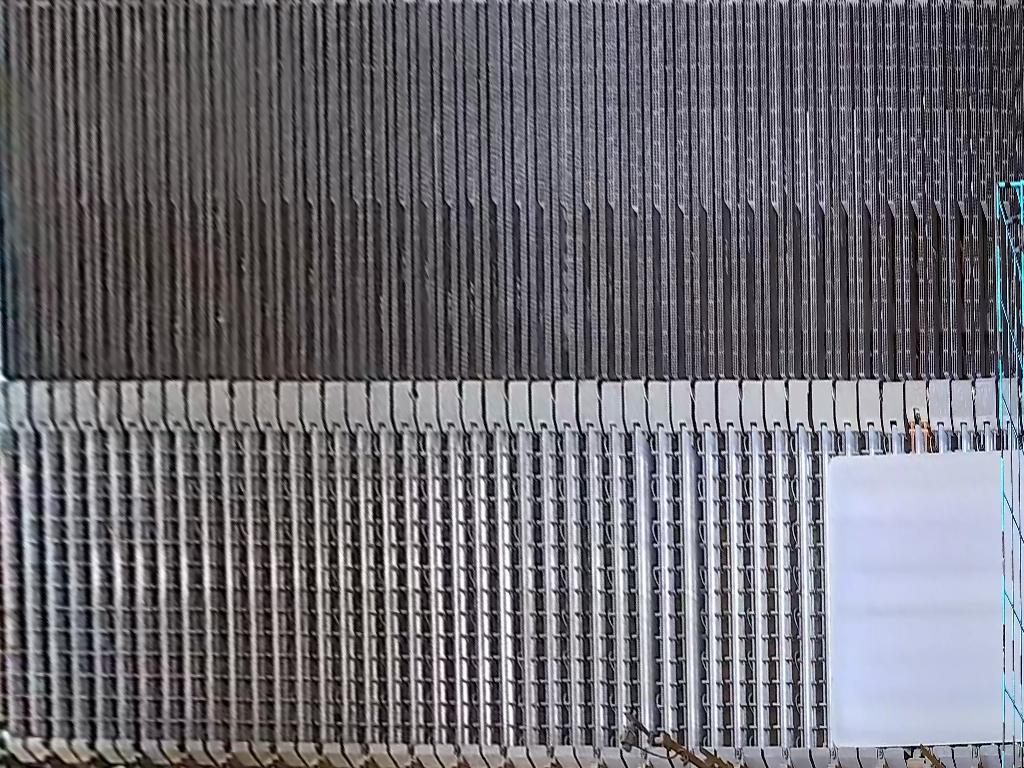steel: (823, 450, 1024, 748)
